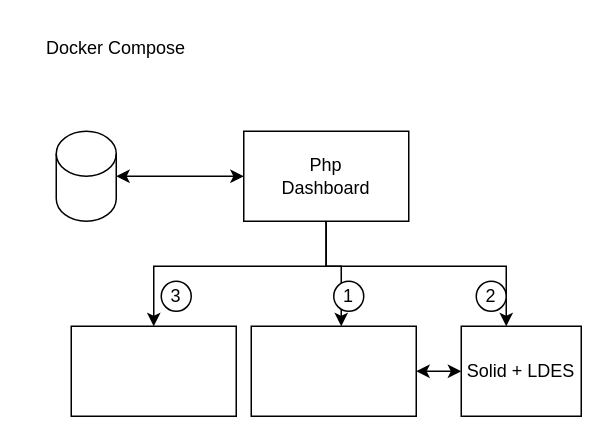
Some shapes in this 608 by 443 pixel diagram are drawn without their labels. The shapes that lost their labels are listed below. From the top down, each one's centre as x and y in pixels, then its label:
At point (85, 175): "SQL".
At point (153, 370): "Solid Identity Provider".
At point (333, 370): "ACL generator (authorization translator)".
